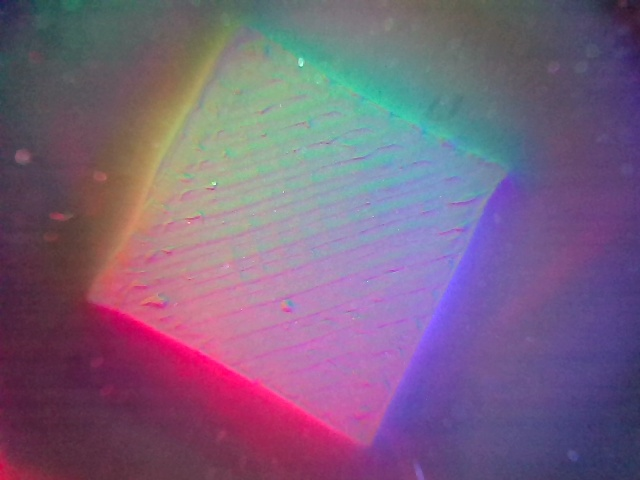contact: (93, 30, 502, 439)
